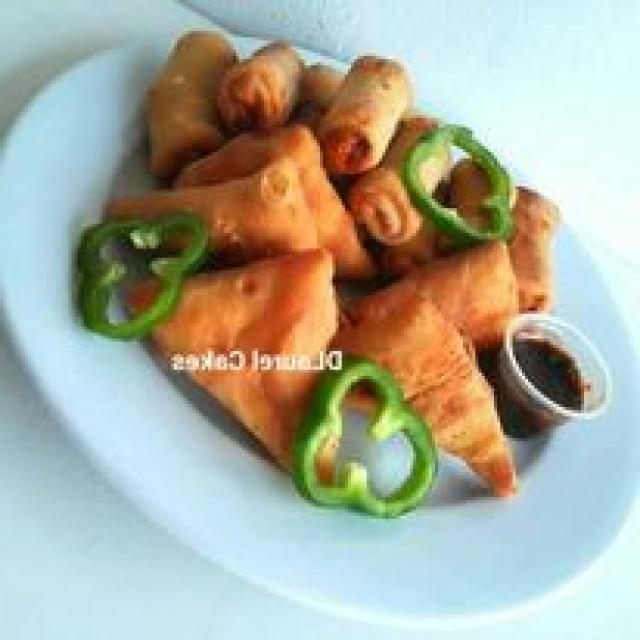Samosa: (152, 202, 525, 506)
Spring Rolls: (137, 16, 435, 190)
